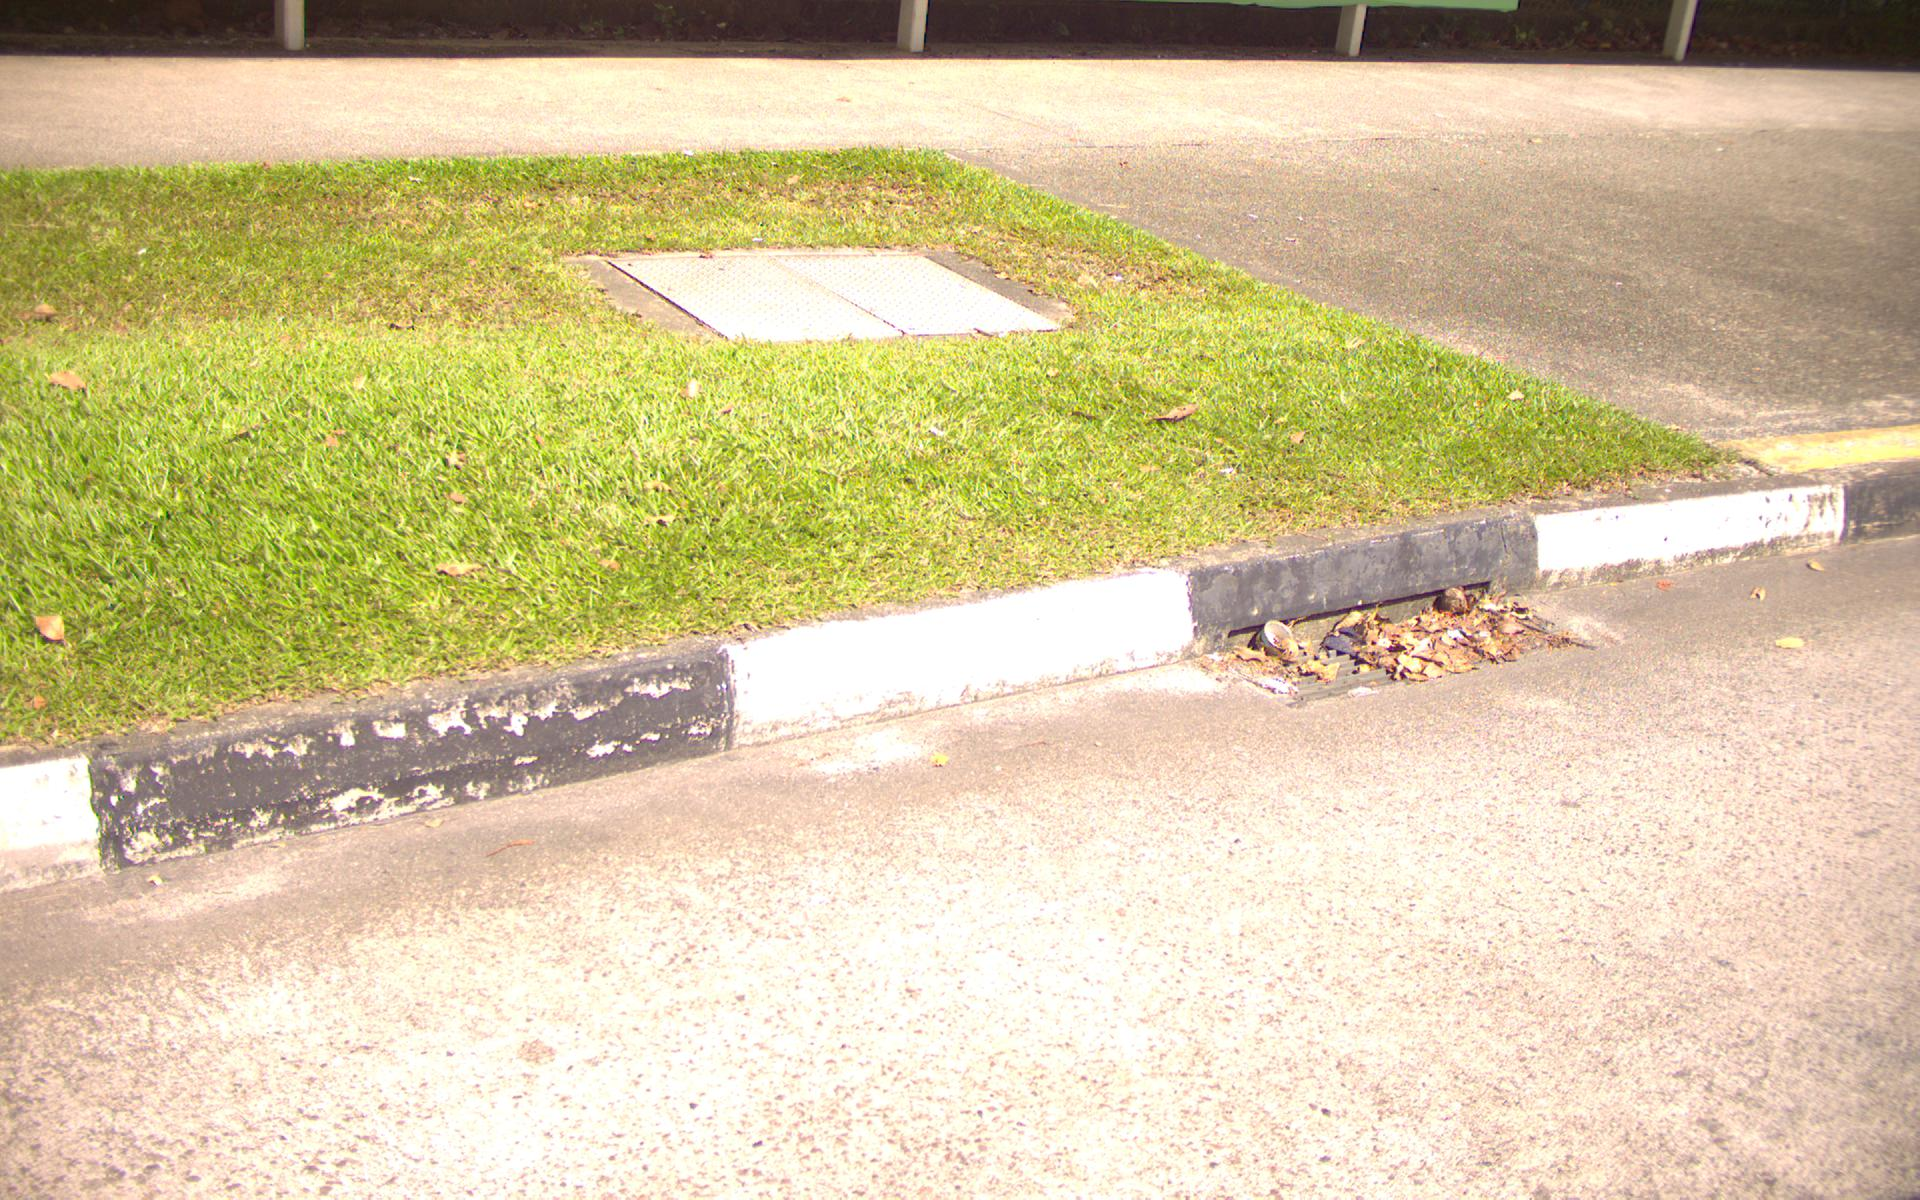curb_dic_low: (1193, 549, 1610, 747)
road_turf_low: (8, 166, 1113, 568), (8, 55, 1919, 140)
